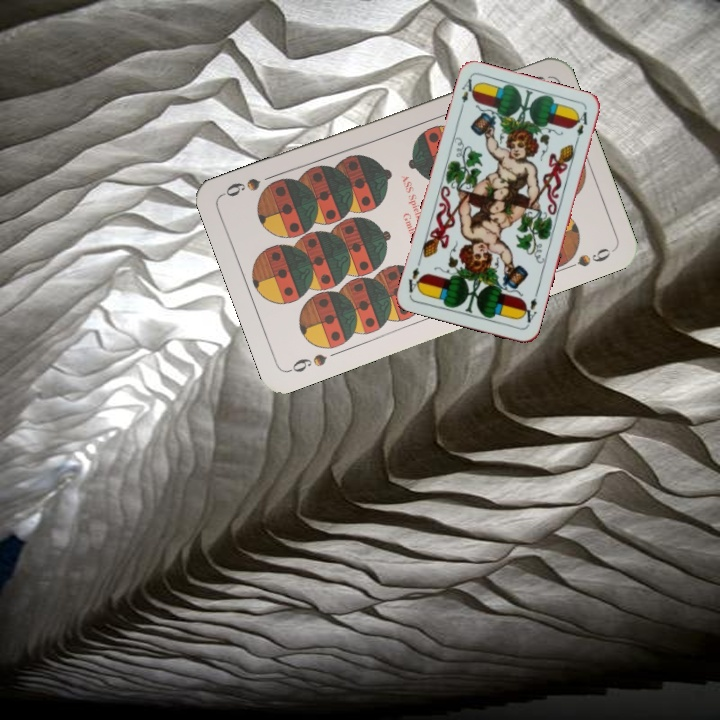EA: (456, 74, 479, 114), (518, 288, 540, 329)
S9: (284, 350, 330, 375)
